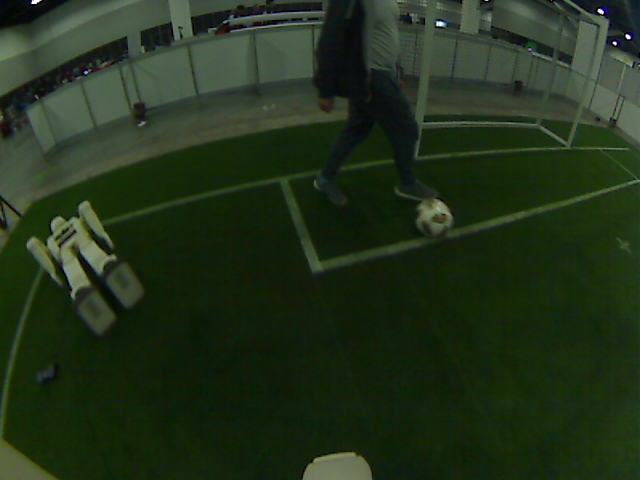ball: (416, 198, 449, 239)
goalpost: (547, 87, 587, 147), (415, 103, 425, 156)
robot: (88, 238, 139, 314)
